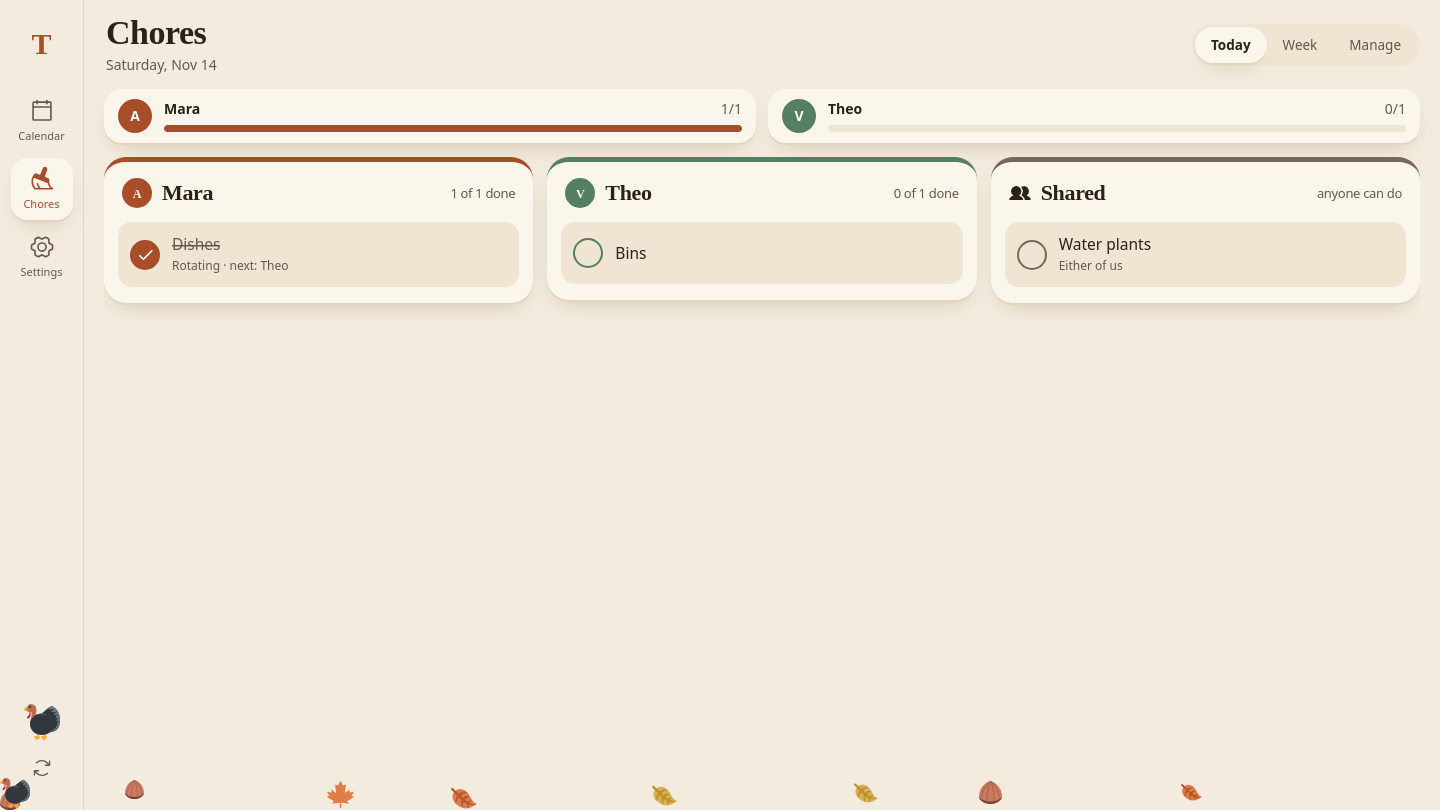
Scenario: chores today › tapping a done chore undoes it
Click the button with aria-label "Dishes, done".
click(196, 244)  # box x1=118 y1=222 x2=519 y2=287
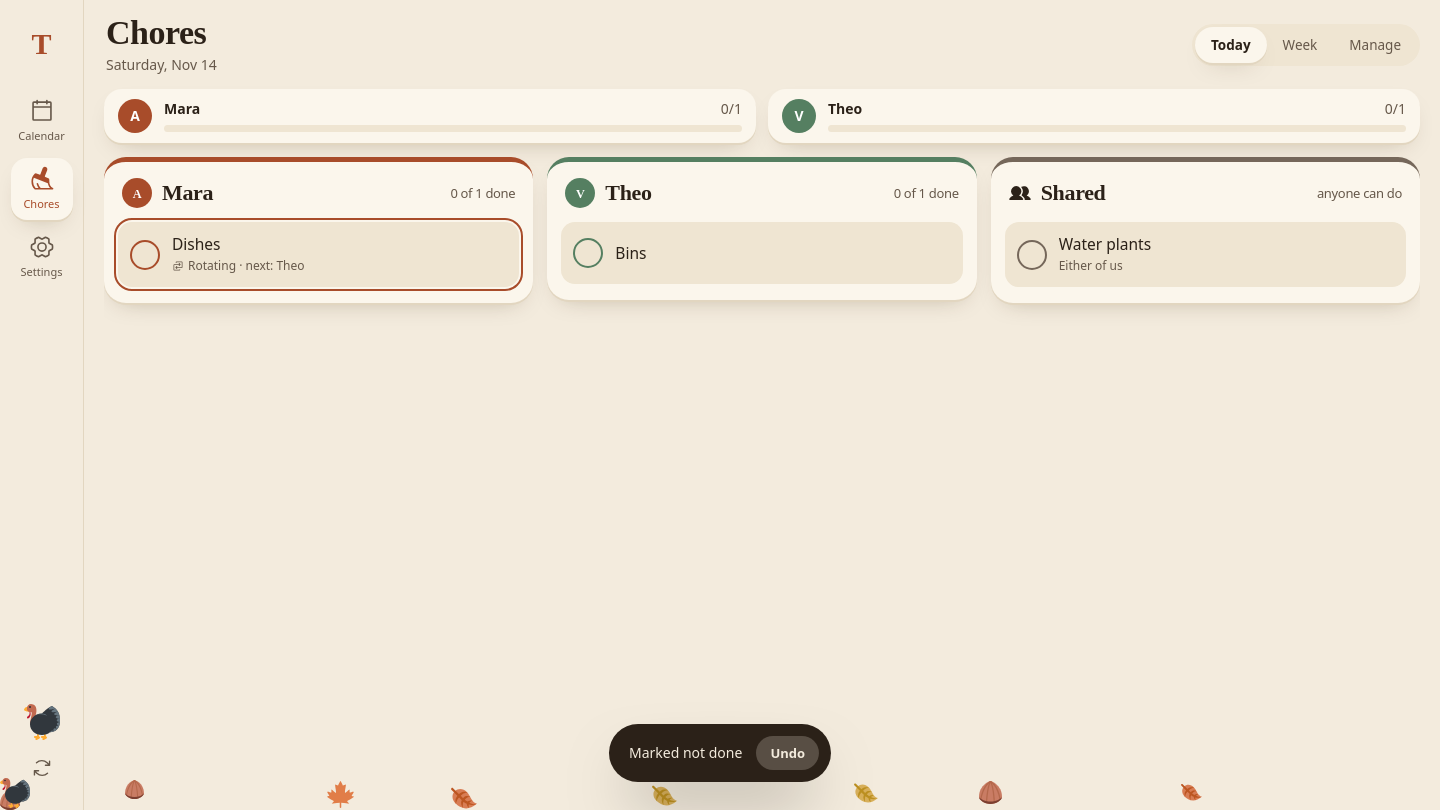
Result: the text "Marked not done" is shown at x1=629 y1=743 x2=742 y2=763
